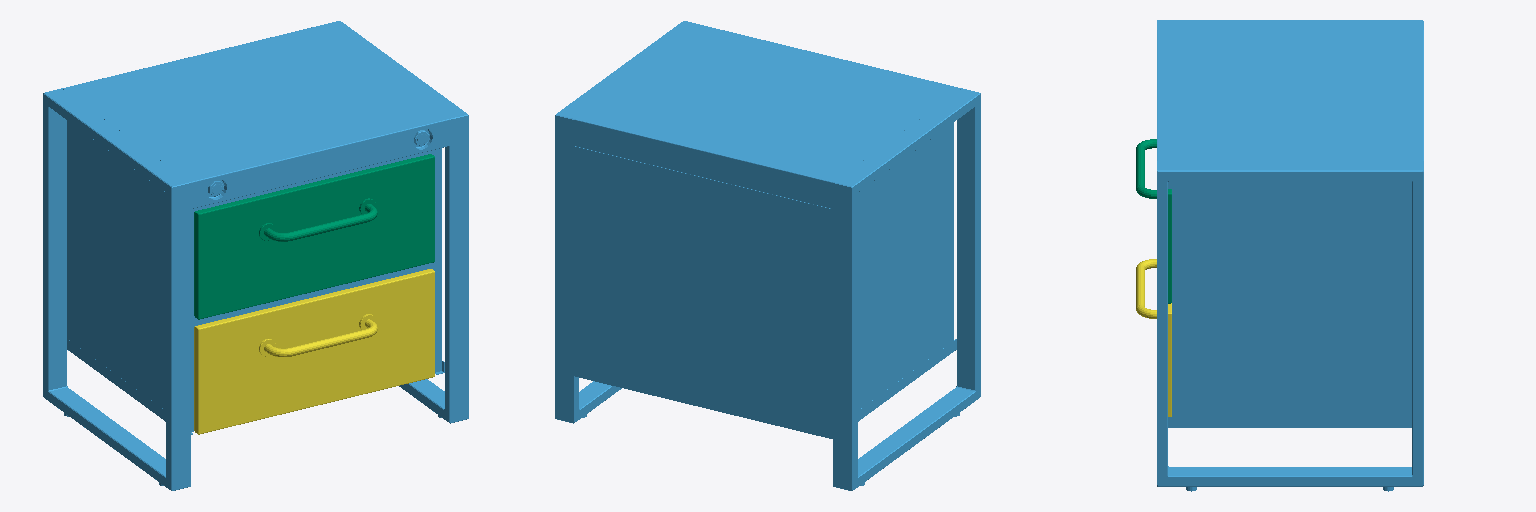
robot.urdf — drawer:
<robot name="drawer">
  <link name="root" />
  <joint name="root_rotation" type="fixed">
    <origin rpy="0 0 0" xyz="0 0 0" />
    <parent link="root" />
    <child link="Nightstand0017" />
  </joint>
  <link name="Nightstand0017">
    <collision>
      <origin rpy="0.000000 -0.000000 0.000000" xyz="-2.6e-06 0.00228865 0.3897192" />
      <geometry>
        <box size="0.396174994 0.297309996 0.0129999997" />
      </geometry>
    </collision>
    <collision>
      <origin rpy="0.000000 -0.000000 0.000000" xyz="-0.1850758 0.0022854 0.01514435" />
      <geometry>
        <box size="0.0259999994 0.297309996 0.0129999997" />
      </geometry>
    </collision>
    <collision>
      <origin rpy="0.000000 -0.000000 0.000000" xyz="0.1850771 0.00229125 0.01514435" />
      <geometry>
        <box size="0.0259999994 0.297309996 0.0129999997" />
      </geometry>
    </collision>
    <collision>
      <origin rpy="0.000000 -0.000000 0.000000" xyz="0.18507125 0.14443325 0.2022683" />
      <geometry>
        <box size="0.0259999994 0.0129999997 0.363155016" />
      </geometry>
    </collision>
    <collision>
      <origin rpy="0.000000 -0.000000 0.000000" xyz="0.18508035 -0.13985075 0.20255755" />
      <geometry>
        <box size="0.0259999994 0.0129999997 0.362569997" />
      </geometry>
    </collision>
    <collision>
      <origin rpy="0.000000 -0.000000 0.000000" xyz="-0.1850758 0.1444274 0.2025348" />
      <geometry>
        <box size="0.0259999994 0.0129999997 0.362309992" />
      </geometry>
    </collision>
    <collision>
      <origin rpy="0.000000 -0.000000 0.000000" xyz="-0.1850758 -0.1398566 0.20272655" />
      <geometry>
        <box size="0.0259999994 0.0129999997 0.362635008" />
      </geometry>
    </collision>
    <collision>
      <origin rpy="0.000000 -0.000000 0.000000" xyz="-0.1634724 0.0108316 0.2204267" />
      <geometry>
        <box size="0.0188499995 0.279500005 0.302705" />
      </geometry>
    </collision>
    <collision>
      <origin rpy="0.000000 -0.000000 0.000000" xyz="0.16348865 0.01082965 0.2203968" />
      <geometry>
        <box size="0.0188499995 0.279500005 0.302640009" />
      </geometry>
    </collision>
    <collision>
      <origin rpy="0.000000 -0.000000 0.000000" xyz="-2.34e-05 0.00159965 0.3536299" />
      <geometry>
        <box size="0.308879998 0.261040002 0.0157949998" />
      </geometry>
    </collision>
    <collision>
      <origin rpy="0.000000 -0.000000 0.000000" xyz="0.0001079 0.00170495 0.209144" />
      <geometry>
        <box size="0.309855005 0.261234996 0.0190450003" />
      </geometry>
    </collision>
    <collision>
      <origin rpy="0.000000 -0.000000 0.000000" xyz="0 0.00236665 0.3767777" />
      <geometry>
        <box size="0.347099987 0.296854998 0.0128699999" />
      </geometry>
    </collision>
    <collision>
      <origin rpy="0.000000 -0.000000 0.000000" xyz="-6.825e-05 0.00242775 0.3662009" />
      <geometry>
        <box size="0.345929986 0.296985 0.00916500017" />
      </geometry>
    </collision>
    <collision>
      <origin rpy="0.000000 -0.000000 0.000000" xyz="-1.235e-05 0.01083095 0.07647705" />
      <geometry>
        <box size="0.344435009 0.279500005 0.0148200002" />
      </geometry>
    </collision>
    <collision>
      <origin rpy="0.000000 -0.000000 0.000000" xyz="0.18541315 -0.1073865 0.0048334" />
      <geometry>
        <cylinder radius="0.009650000371038914" length="0.01489999983459711" />
      </geometry>
    </collision>
    <collision>
      <origin rpy="0.000000 -0.000000 0.000000" xyz="0.18541315 0.1113411 0.0048334" />
      <geometry>
        <cylinder radius="0.009650000371038914" length="0.01489999983459711" />
      </geometry>
    </collision>
    <collision>
      <origin rpy="0.000000 -0.000000 0.000000" xyz="-0.1854086 -0.1073865 0.0048334" />
      <geometry>
        <cylinder radius="0.009650000371038914" length="0.01489999983459711" />
      </geometry>
    </collision>
    <collision>
      <origin rpy="0.000000 -0.000000 0.000000" xyz="-0.1854086 0.1113411 0.0048334" />
      <geometry>
        <cylinder radius="0.009650000371038914" length="0.01489999983459711" />
      </geometry>
    </collision>
    <visual>
      <origin xyz="0 0 0" rpy="0 0 0" />
      <geometry>
        <mesh filename="drawer_meshes/Nightstand0017/part_00/mesh.obj" scale="0.65 0.65 0.65" />
      </geometry>
    </visual>
    <visual>
      <origin xyz="0 0 0" rpy="0 0 0" />
      <geometry>
        <mesh filename="drawer_meshes/Nightstand0017/part_01/mesh.obj" scale="0.65 0.65 0.65" />
      </geometry>
    </visual>
    <visual>
      <origin xyz="0 0 0" rpy="0 0 0" />
      <geometry>
        <mesh filename="drawer_meshes/Nightstand0017/part_02/mesh.obj" scale="0.65 0.65 0.65" />
      </geometry>
    </visual>
    <inertial>
      <origin xyz="2.275e-06 0.00228850375 0.198115083" rpy="0 0 0" />
      <mass value="1.8" />
      <inertia ixx="0.0368076822" ixy="0" ixz="0" iyy="0.0470915156" iyz="0" izz="0.0367982945" />
    </inertial>
  </link>
  <link name="Nightstand0017_drawer01">
    <collision>
      <origin rpy="0.000000 -0.000000 0.000000" xyz="-6.5e-07 0.0002496 -0.0004706" />
      <geometry>
        <box size="0.315900001 0.00974999978 0.134874997" />
      </geometry>
    </collision>
    <collision>
      <origin rpy="0.000000 -0.000000 0.000000" xyz="0.1430078 0.1334788 -0.0117" />
      <geometry>
        <box size="0.0104000005 0.257399999 0.0919749975" />
      </geometry>
    </collision>
    <collision>
      <origin rpy="0.000000 -0.000000 0.000000" xyz="-0.1430078 0.1334918 -0.0117" />
      <geometry>
        <box size="0.0104000005 0.257399999 0.0919749975" />
      </geometry>
    </collision>
    <collision>
      <origin rpy="0.000000 -0.000000 0.000000" xyz="-0.00012805 0.2569905 -0.0117" />
      <geometry>
        <box size="0.276899999 0.0104000005 0.0919749975" />
      </geometry>
    </collision>
    <collision>
      <origin rpy="0.000000 -0.000000 0.000000" xyz="-0.00012675 0.12898925 -0.05248035" />
      <geometry>
        <box size="0.277094993 0.248039995 0.0104000005" />
      </geometry>
    </collision>
    <visual>
      <origin xyz="0 0 0" rpy="0 0 0" />
      <geometry>
        <mesh filename="drawer_meshes/Nightstand0017_drawer01/part_00/mesh.obj" scale="0.65 0.65 0.65" />
      </geometry>
    </visual>
    <collision name="graspable_handle_bar_Nightstand0017_drawer01">
      <origin xyz="3.7856e-05 -0.031623306 0.0237971013" rpy="0 0 0" />
      <geometry>
        <box size="0.127946832 0.007728422 0.010226918" />
      </geometry>
    </collision>
    <collision name="graspable_handle_support_a_Nightstand0017_drawer01">
      <origin xyz="-0.0697810789 -0.019735586 0.0237707698" rpy="0 0 0" />
      <geometry>
        <box size="0.0155088622 0.031503862 0.021443071" />
      </geometry>
    </collision>
    <collision name="graspable_handle_support_b_Nightstand0017_drawer01">
      <origin xyz="0.0697986809 -0.019735586 0.0237707698" rpy="0 0 0" />
      <geometry>
        <box size="0.0155088622 0.031503862 0.021443071" />
      </geometry>
    </collision>
    <visual>
      <origin xyz="0 0 0" rpy="0 0 0" />
      <geometry>
        <mesh filename="drawer_meshes/Nightstand0017_drawer01/part_01/mesh.obj" scale="0.65 0.65 0.65" />
      </geometry>
    </visual>
    <inertial>
      <origin xyz="-3.8675e-07 0.11335141 -0.00047038875" rpy="0 0 0" />
      <mass value="0.35" />
      <inertia ixx="0.00311499016" ixy="0" ixz="0" iyy="0.0034413735" iyz="0" izz="0.00549542281" />
    </inertial>
  </link>
  <link name="Nightstand0017_drawer02">
    <collision>
      <origin rpy="0.000000 -0.000000 0.000000" xyz="-6.5e-07 0.0002496 -0.00045175" />
      <geometry>
        <box size="0.315900001 0.00974999978 0.134874997" />
      </geometry>
    </collision>
    <collision>
      <origin rpy="0.000000 -0.000000 0.000000" xyz="0.1430078 0.1334762 -0.0081328" />
      <geometry>
        <box size="0.0104000005 0.257399999 0.0848250024" />
      </geometry>
    </collision>
    <collision>
      <origin rpy="0.000000 -0.000000 0.000000" xyz="-0.1430078 0.1334892 -0.0081328" />
      <geometry>
        <box size="0.0104000005 0.257399999 0.0848250024" />
      </geometry>
    </collision>
    <collision>
      <origin rpy="0.000000 -0.000000 0.000000" xyz="-0.00013065 0.2569905 -0.0081328" />
      <geometry>
        <box size="0.276899999 0.0104000005 0.0848250024" />
      </geometry>
    </collision>
    <collision>
      <origin rpy="0.000000 -0.000000 0.000000" xyz="-0.00015535 0.12882935 -0.04534595" />
      <geometry>
        <box size="0.276964991 0.247650008 0.0104000005" />
      </geometry>
    </collision>
    <visual>
      <origin xyz="0 0 0" rpy="0 0 0" />
      <geometry>
        <mesh filename="drawer_meshes/Nightstand0017_drawer02/part_00/mesh.obj" scale="0.65 0.65 0.65" />
      </geometry>
    </visual>
    <collision name="graspable_handle_bar_Nightstand0017_drawer02">
      <origin xyz="3.78495e-05 -0.03162328 0.0228896297" rpy="0 0 0" />
      <geometry>
        <box size="0.127946845 0.007728422 0.010226905" />
      </geometry>
    </collision>
    <collision name="graspable_handle_support_a_Nightstand0017_drawer02">
      <origin xyz="-0.0697810789 -0.0197351505 0.0228626287" rpy="0 0 0" />
      <geometry>
        <box size="0.0155088622 0.031504681 0.021443773" />
      </geometry>
    </collision>
    <collision name="graspable_handle_support_b_Nightstand0017_drawer02">
      <origin xyz="0.0697986809 -0.0197351505 0.0228626287" rpy="0 0 0" />
      <geometry>
        <box size="0.0155088622 0.031504681 0.021443773" />
      </geometry>
    </collision>
    <visual>
      <origin xyz="0 0 0" rpy="0 0 0" />
      <geometry>
        <mesh filename="drawer_meshes/Nightstand0017_drawer02/part_01/mesh.obj" scale="0.65 0.65 0.65" />
      </geometry>
    </visual>
    <inertial>
      <origin xyz="-3.8675e-07 0.113351433 -0.0004519385" rpy="0 0 0" />
      <mass value="0.35" />
      <inertia ixx="0.0031149902" ixy="0" ixz="0" iyy="0.00344137365" iyz="0" izz="0.00549542269" />
    </inertial>
  </link>
  <joint name="Nightstand0017_drawer01" type="prismatic">
    <parent link="Nightstand0017" />
    <child link="Nightstand0017_drawer01" />
    <axis xyz="0.000000 -1.000000 0.000000" />
    <limit effort="100.0000" lower="-0" upper="0.238215399" velocity="0.5" />
    <origin rpy="0 0 0" xyz="2.6e-06 -0.1337219 0.2821975" />
    <dynamics damping="0.8" friction="0.2" />
  </joint>
  <joint name="Nightstand0017_drawer02" type="prismatic">
    <parent link="Nightstand0017" />
    <child link="Nightstand0017_drawer02" />
    <axis xyz="0.000000 -1.000000 0.000000" />
    <limit effort="100.0000" lower="-0" upper="0.238215399" velocity="0.5" />
    <origin rpy="0 0 0" xyz="2.6e-06 -0.13372255 0.1360905" />
    <dynamics damping="0.8" friction="0.2" />
  </joint>
</robot>

--- Render facts (derived) ---
The picture shows the robot from 3 angles, left to right: view 1: azimuth 30°, elevation 25°; view 2: azimuth 150°, elevation 25°; view 3: azimuth 270°, elevation 25°; orthographic projection.
Robot: drawer — 4 links, 3 joints (2 prismatic, 1 fixed); root link root; default pose: all joints at 0.
Visible links, largest first — view 1: Nightstand0017, Nightstand0017_drawer02, Nightstand0017_drawer01; view 2: Nightstand0017; view 3: Nightstand0017, Nightstand0017_drawer01, Nightstand0017_drawer02.
Boxes of the visible links, left/top/right/bottom form: Nightstand0017: left=43, top=21, right=468, bottom=490; Nightstand0017_drawer02: left=194, top=269, right=434, bottom=434; Nightstand0017_drawer01: left=194, top=154, right=434, bottom=319; Nightstand0017: left=555, top=21, right=980, bottom=490; Nightstand0017: left=1157, top=20, right=1423, bottom=491; Nightstand0017_drawer01: left=1136, top=139, right=1171, bottom=303; Nightstand0017_drawer02: left=1136, top=259, right=1171, bottom=416.
Size in the robot's own frame: 0.3962 by 0.3201 by 0.3962 metres.
Meshes: 7 distinct files referenced, 7 mesh visuals loaded (7 OBJ).
